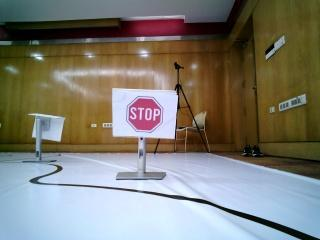stop: (116, 87, 176, 141)
